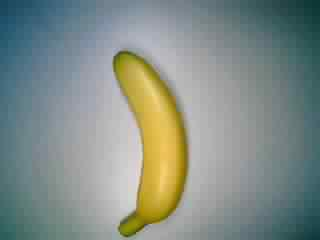banana: (110, 48, 192, 240)
